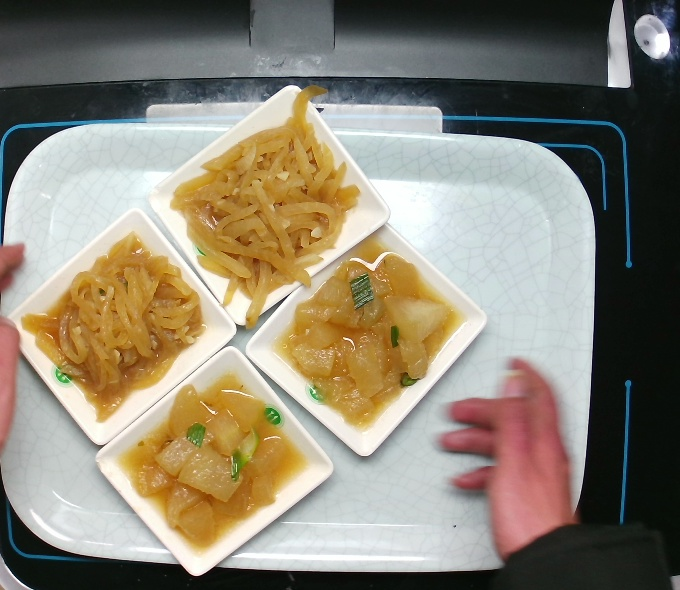wcq-DongGua: (274, 233, 463, 435), (121, 362, 310, 564)
wcq-LuoBoSi: (171, 81, 363, 328), (18, 229, 208, 418)
